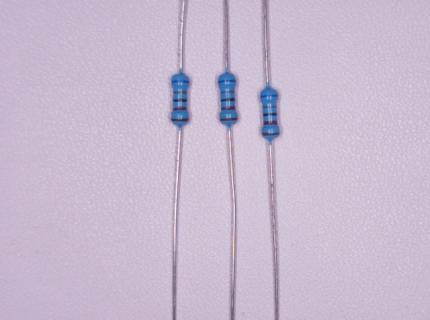Black band: (220, 97, 235, 102), (262, 113, 277, 116), (173, 99, 187, 102)
Blue band: (260, 93, 279, 98), (218, 79, 237, 83), (171, 80, 189, 84)
Brown band: (170, 118, 189, 122), (220, 117, 238, 121), (262, 132, 280, 136)
Grey band: (220, 90, 235, 95), (262, 105, 277, 109), (173, 91, 188, 94)
Red band: (172, 106, 187, 111), (221, 106, 236, 111), (263, 120, 278, 125)
